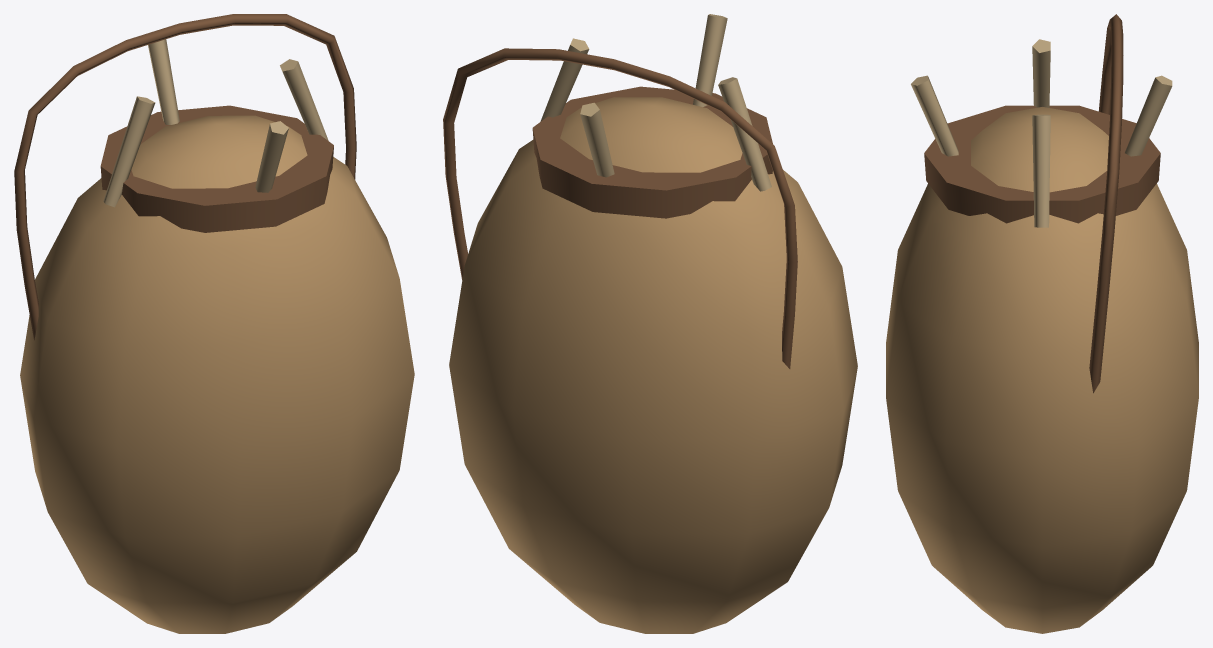
The model's file is load_sack.glb.
The picture shows the model from 3 angles, left to right: view 1: azimuth 30°, elevation 25°; view 2: azimuth 150°, elevation 25°; view 3: azimuth 270°, elevation 25°; orthographic projection. The views are drawn at different scales.
Visible parts, largest first — view 1: part_0, part_1, part_2; view 2: part_0, part_1, part_2; view 3: part_0, part_1, part_2.
Boxes of the visible parts, x1,y1,x2,y2 form: part_0: (20,115,414,633); part_1: (14,14,356,340); part_2: (103,39,328,207); part_0: (449,97,857,633); part_1: (443,48,797,368); part_2: (540,14,771,191); part_0: (886,107,1198,633); part_1: (924,14,1160,393); part_2: (911,39,1172,227).
Bounding box in the file's own units: 0.2473 × 0.3695 × 0.1841.
